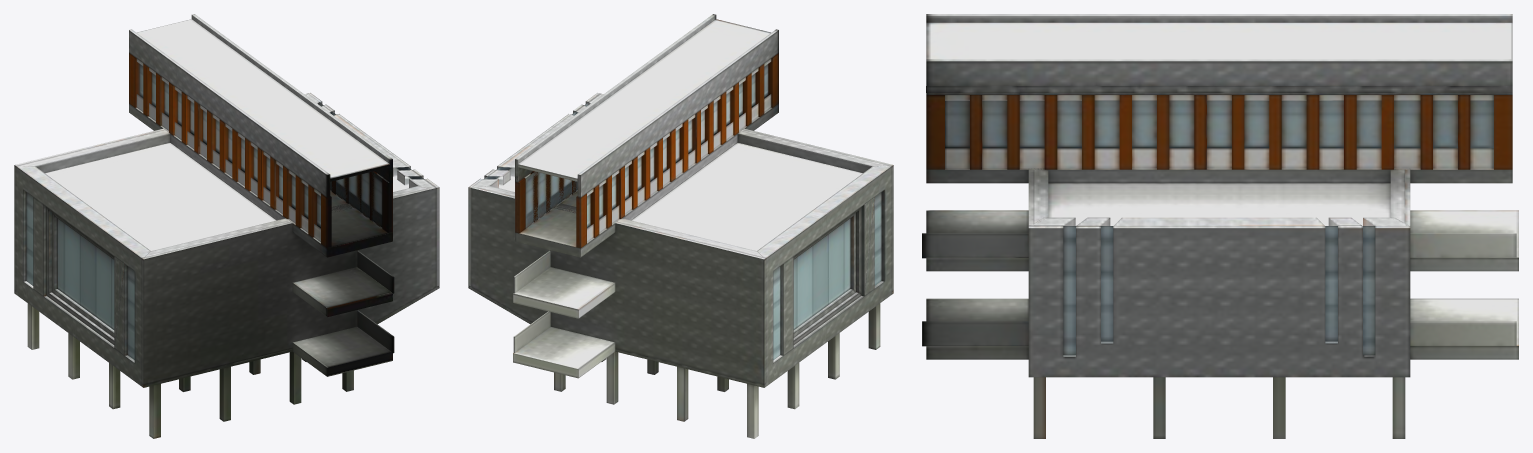
File: office_A3Texture.glb
The picture shows the model from 3 angles, left to right: view 1: azimuth 30°, elevation 25°; view 2: azimuth 150°, elevation 25°; view 3: azimuth 270°, elevation 25°; orthographic projection. The views are drawn at different scales.
Parts seen in each view (by area): view 1: 行政楼3; view 2: 行政楼3; view 3: 行政楼3.
Boxes of the visible parts, bbox=[...] form: 行政楼3: bbox=[14, 14, 439, 438]; 行政楼3: bbox=[468, 14, 893, 438]; 行政楼3: bbox=[922, 14, 1518, 438].
Bounding box in the file's own units: 20.25 × 16.79 × 23.91.
1 material, 1 textured.
